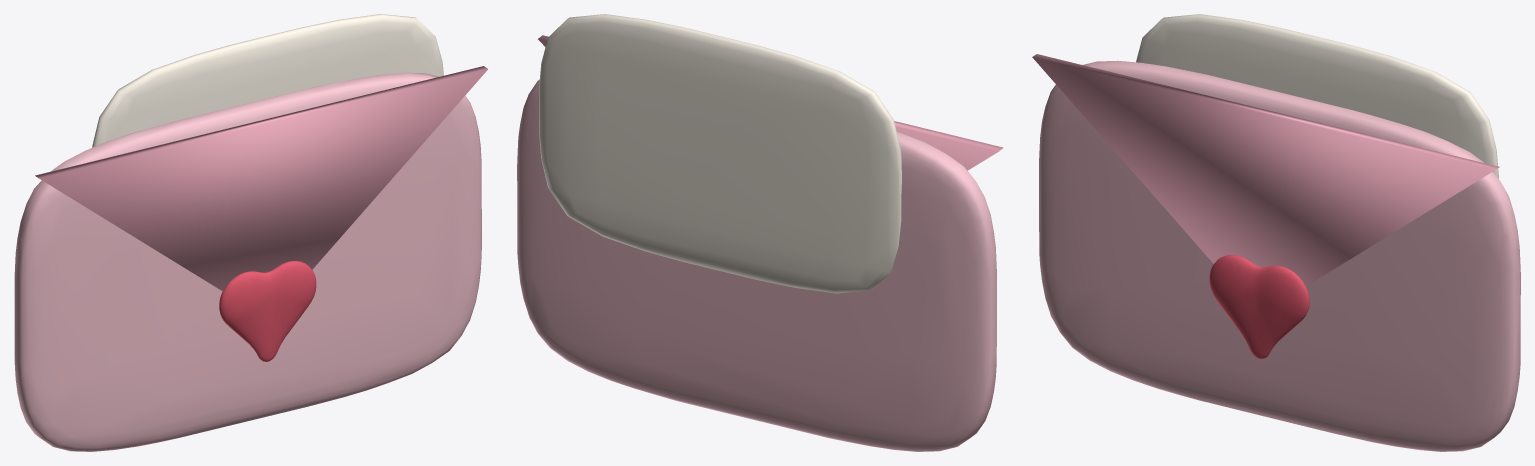
The model's file is regalo_carta.glb.
The picture shows the model from 3 angles, left to right: view 1: azimuth 30°, elevation 25°; view 2: azimuth 150°, elevation 25°; view 3: azimuth 330°, elevation 25°; orthographic projection. The views are drawn at different scales.
Visible parts, largest first — view 1: sobre, solapa sobre, carta asomada, sello corazón; view 2: sobre, carta asomada, solapa sobre; view 3: sobre, solapa sobre, carta asomada, sello corazón.
Boxes of the visible parts, bbox=[...] form: sobre: bbox=[14, 72, 481, 451]; solapa sobre: bbox=[35, 66, 487, 291]; carta asomada: bbox=[92, 14, 443, 147]; sello corazón: bbox=[219, 261, 316, 361]; sobre: bbox=[517, 79, 996, 451]; carta asomada: bbox=[539, 14, 901, 293]; solapa sobre: bbox=[538, 35, 1003, 170]; sobre: bbox=[1039, 60, 1520, 451]; solapa sobre: bbox=[1032, 54, 1499, 286]; carta asomada: bbox=[1136, 14, 1498, 178]; sello corazón: bbox=[1209, 255, 1309, 359].
Bounding box in the file's own units: 0.3398 × 0.2598 × 0.0469.
